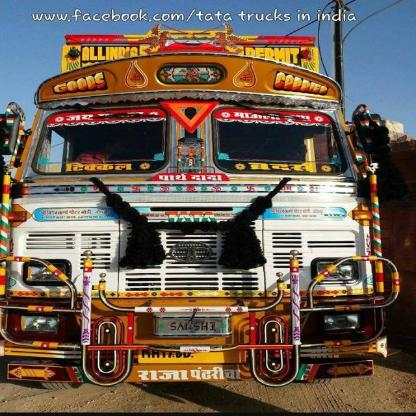truck: (8, 42, 400, 388)
